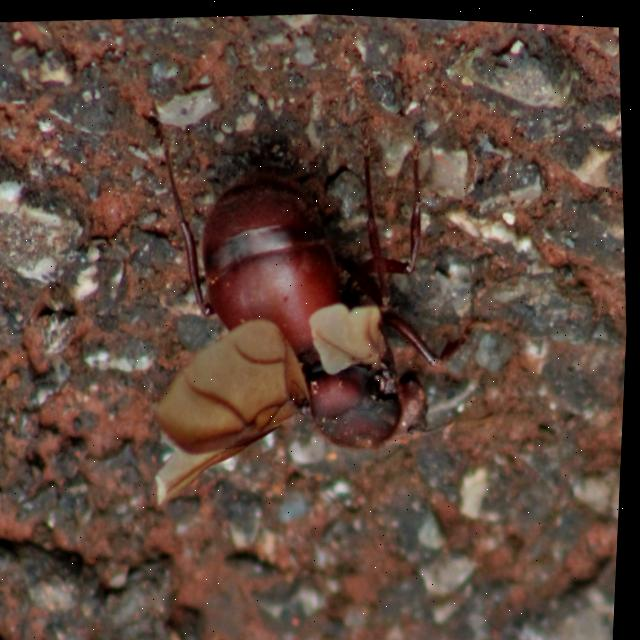Alive-Female-Alate: (127, 85, 510, 520)
